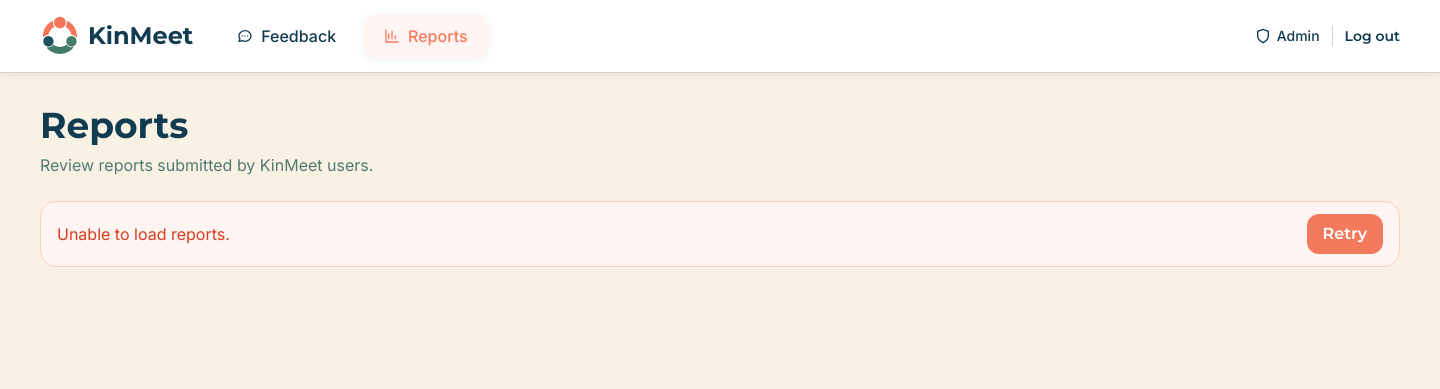
Scenario: AdminPage — reports › surfaces a load error and retries
expect the message shows "Unable to load reports": met, box [57, 224, 230, 244]
Click the button "Retry" at (1345, 234), box [1307, 214, 1383, 254]
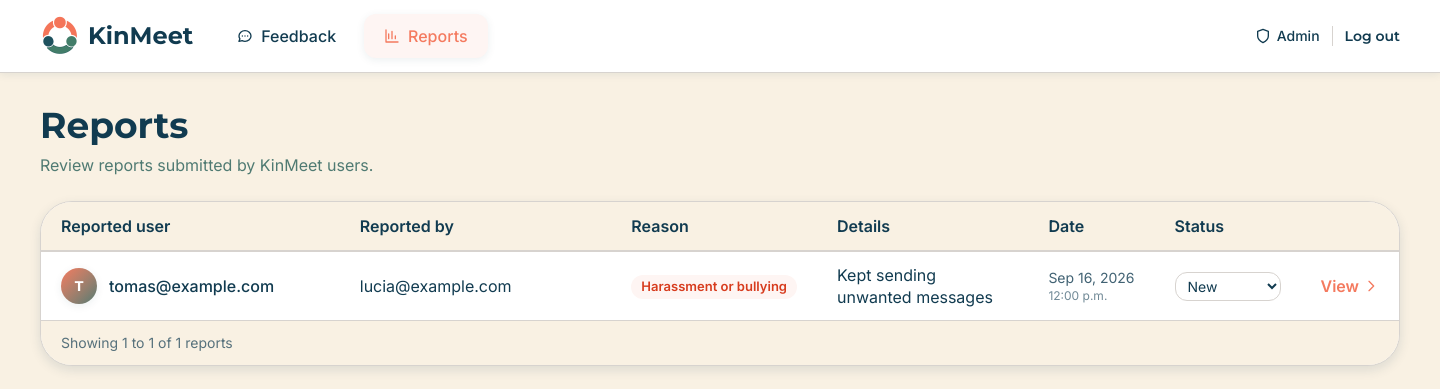
expect the table is shown: met, box [41, 202, 1399, 320]
